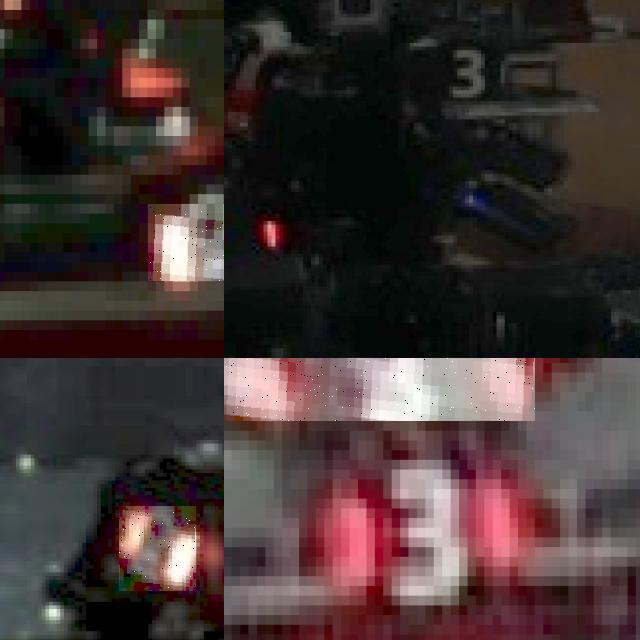R3: (299, 450, 535, 596), (224, 358, 535, 421)
Rs: (119, 506, 196, 591), (147, 203, 224, 281)
